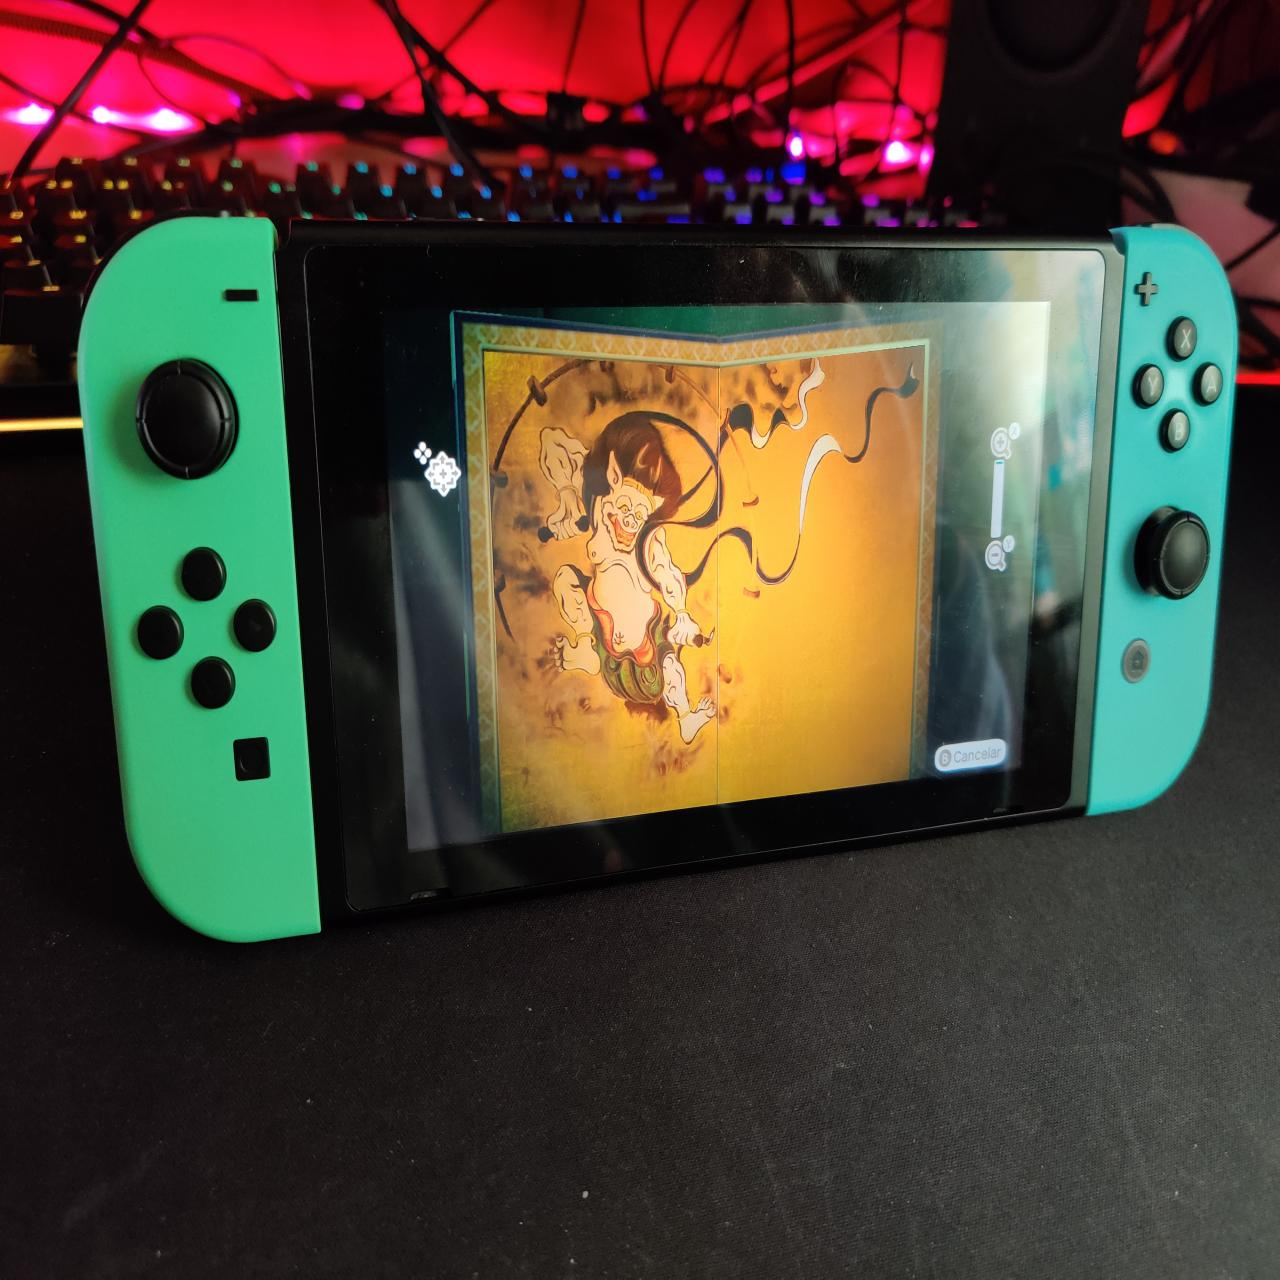Raijin: (452, 314, 937, 826)
